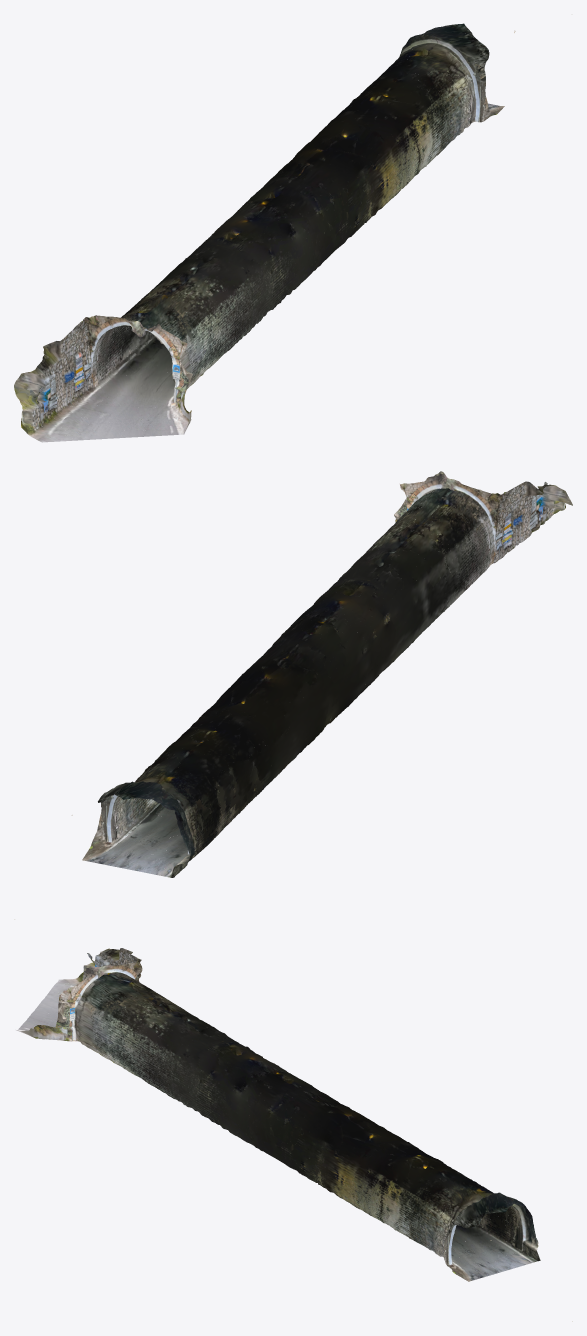
The model's file is positanos_tunnel_optimized.glb.
3 views of the same model, one above another, from view 1: azimuth 30°, elevation 25°; view 2: azimuth 210°, elevation 25°; view 3: azimuth 270°, elevation 25° (orthographic). The views are drawn at different scales.
Visible parts, largest first — view 1: Object_2, Object_3, Object_4; view 2: Object_3, Object_2, Object_4; view 3: Object_3, Object_2, Object_4.
Boxes of the visible parts, x1,y1,x2,y2 form: Object_2: (14,211,309,442); Object_3: (194,23,515,294); Object_4: (219,151,370,288); Object_3: (14,585,410,919); Object_2: (281,471,572,682); Object_4: (228,602,383,723); Object_3: (221,1044,572,1321); Object_2: (16,948,260,1126); Object_4: (220,1057,341,1164).
Bounding box in the file's own units: 5.59 × 0.5428 × 3.77.
Materials: 1 (1 with a texture image).
